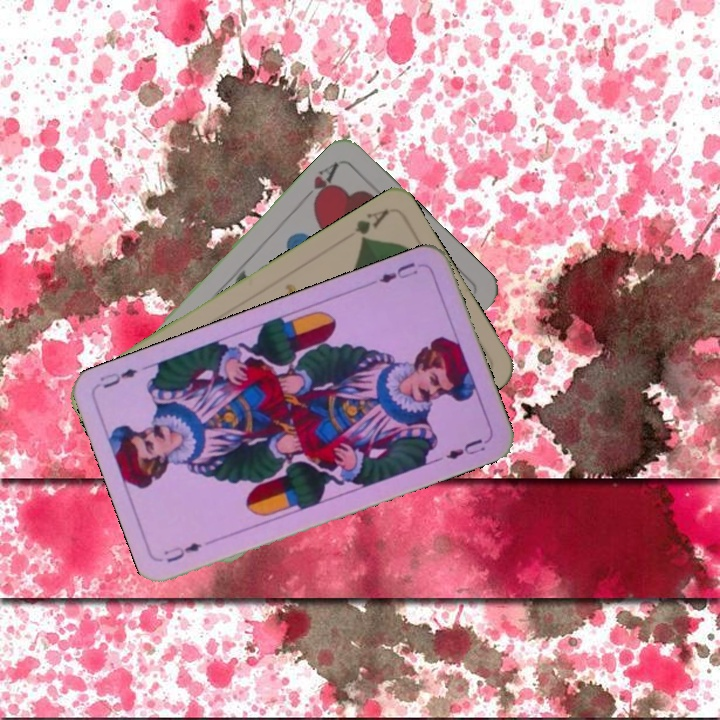EU: (374, 258, 421, 286), (159, 538, 205, 565)
GA: (351, 205, 392, 246)
HA: (309, 157, 342, 208)
